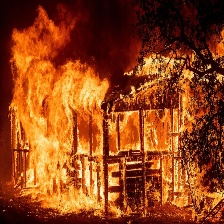fire: (9, 9, 223, 223)
smoke: (83, 3, 153, 75)
